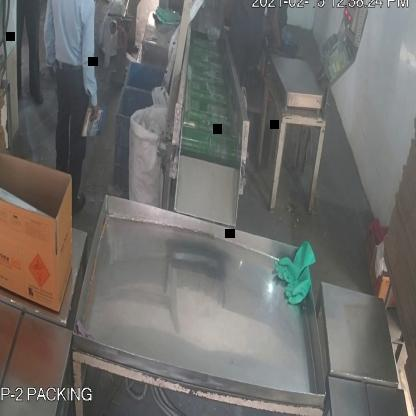no_glove: (79, 0, 102, 120), (266, 7, 288, 55)
